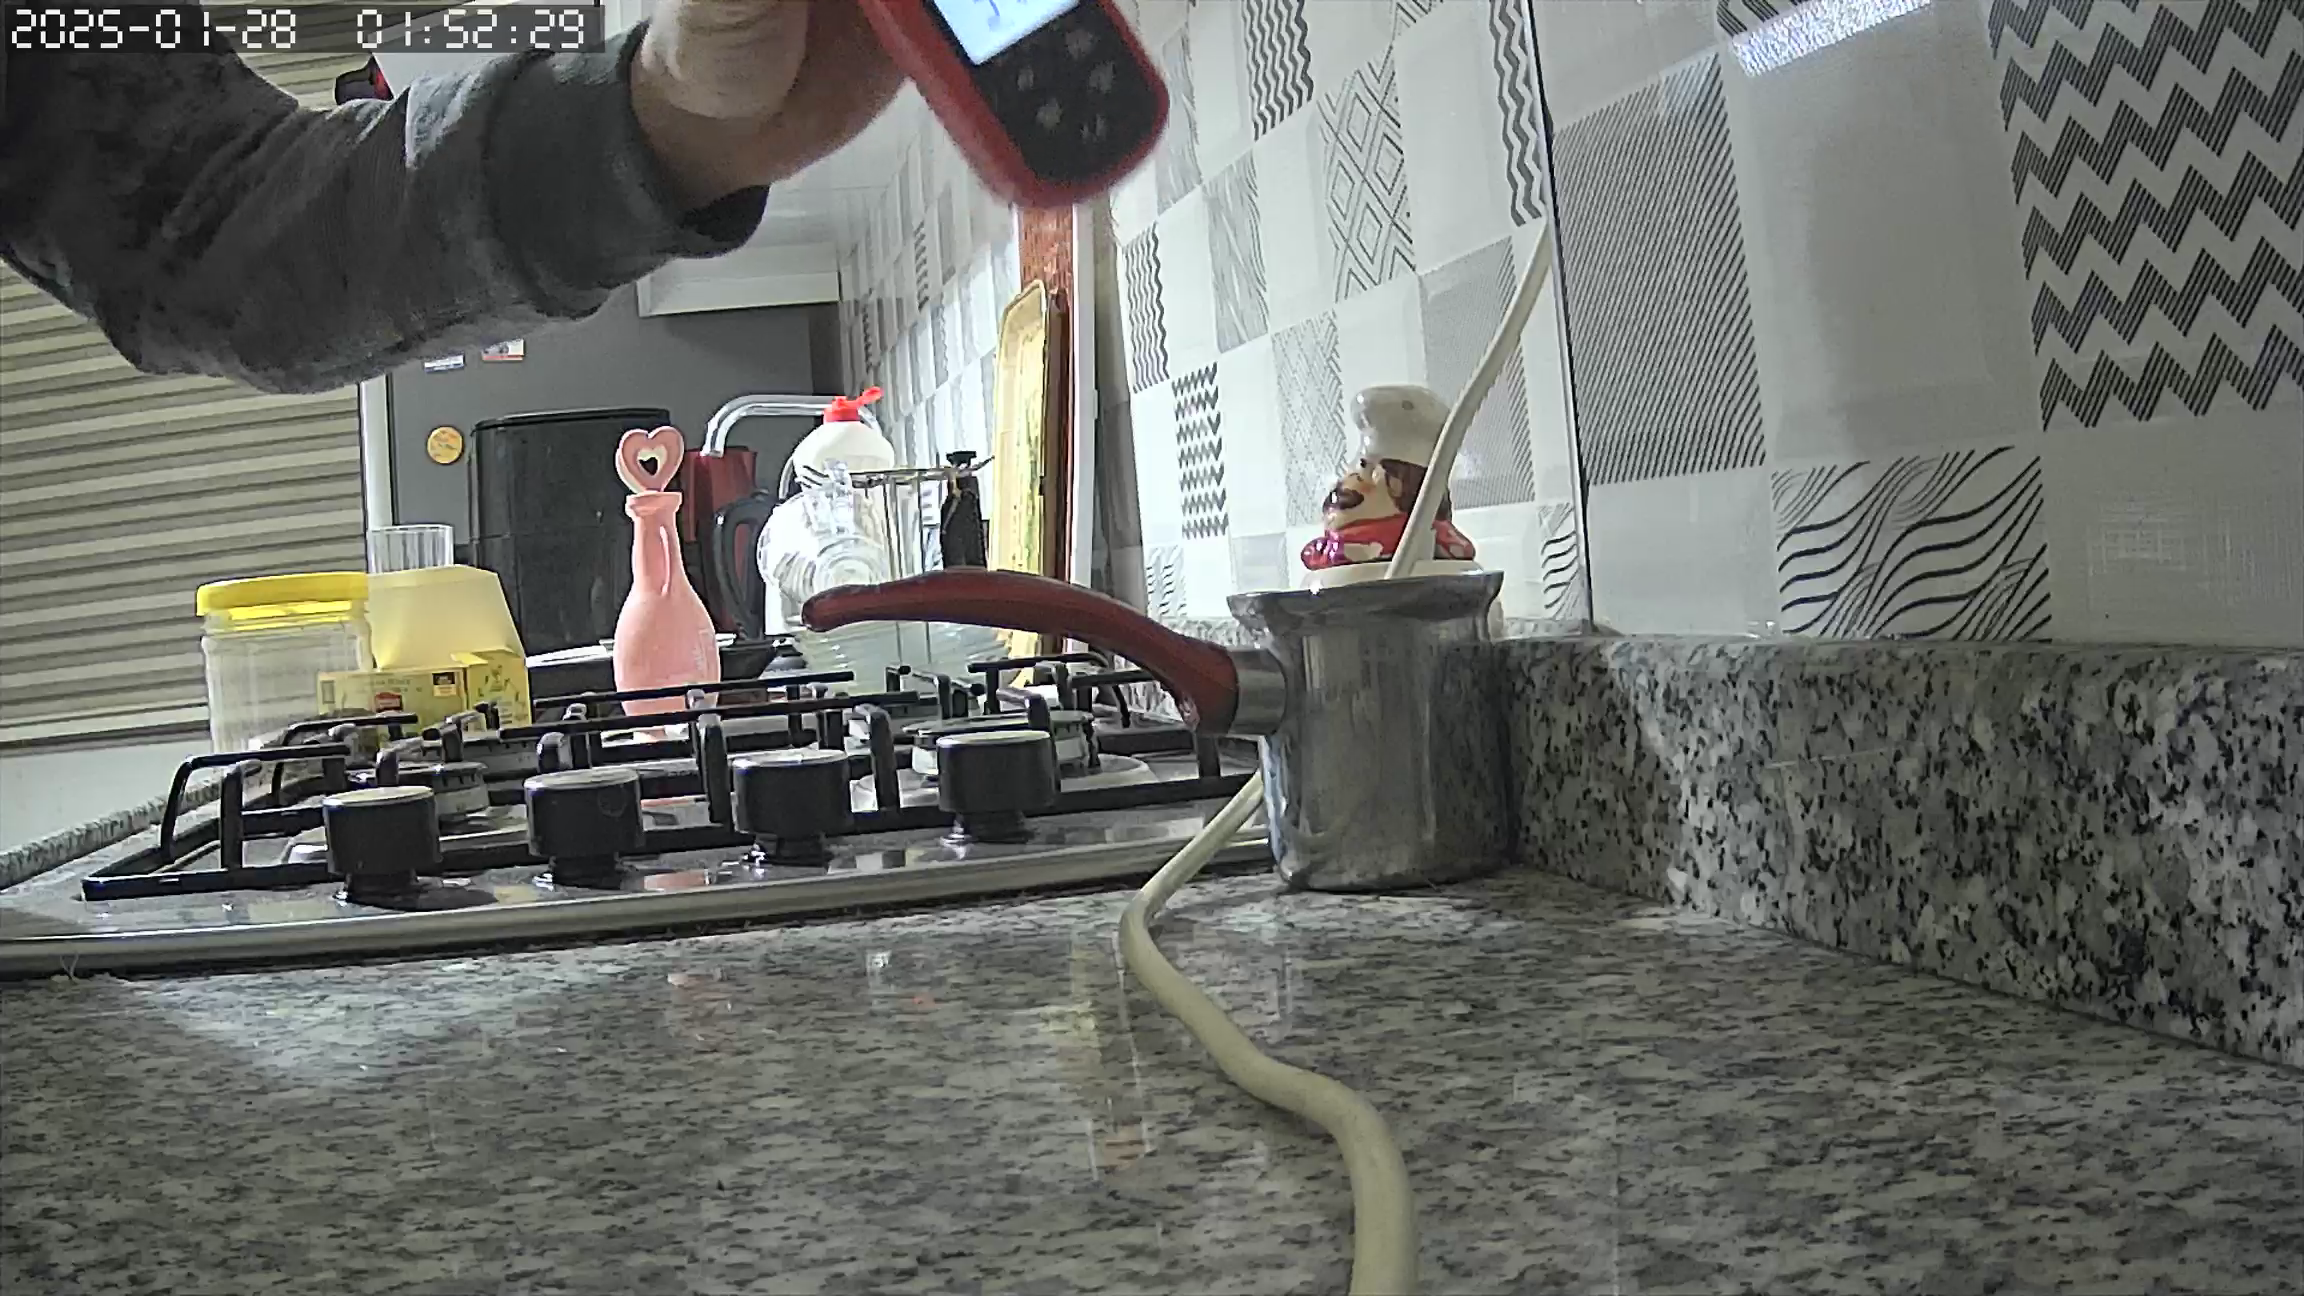screen: (930, 2, 1078, 70)
